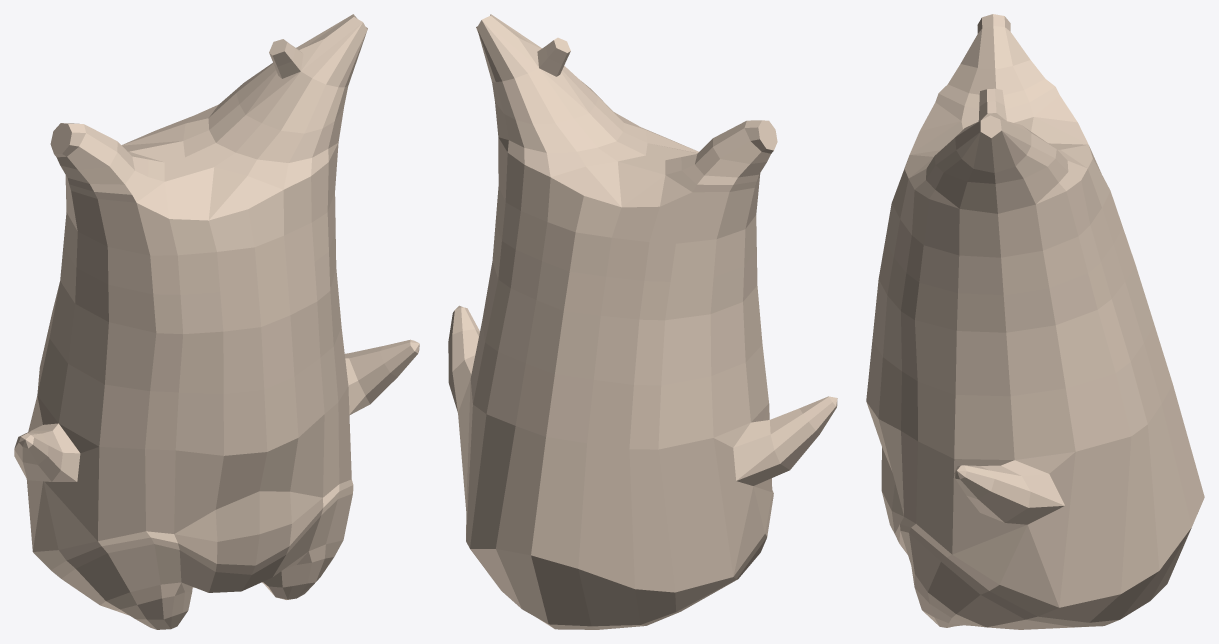
The model's file is frame_0114.obj.
The picture shows the model from 3 angles, left to right: view 1: azimuth 30°, elevation 25°; view 2: azimuth 150°, elevation 25°; view 3: azimuth 270°, elevation 25°; orthographic projection. The views are drawn at different scales.
Parts seen in each view (by area): view 1: korok; view 2: korok; view 3: korok.
Boxes of the visible parts, <box> form: korok: <box>14,14,419,629</box>; korok: <box>448,14,837,629</box>; korok: <box>866,14,1204,629</box>.
Size of the model in its own units: 1.46 by 1.94 by 1.06.
